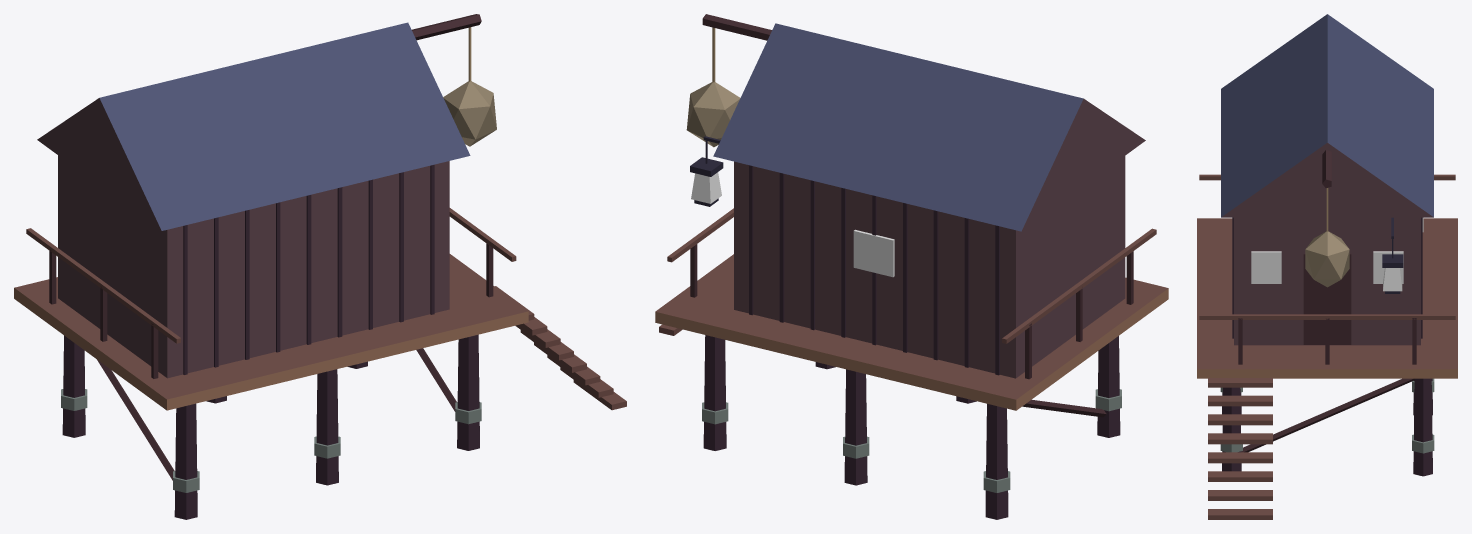
The model's file is Fair_StiltHouse.fbx.
3 views of the same model, side by side, from view 1: azimuth 30°, elevation 25°; view 2: azimuth 150°, elevation 25°; view 3: azimuth 270°, elevation 25° (orthographic). The views are drawn at different scales.
Parts seen in each view (by area): view 1: Fair_StiltHouse; view 2: Fair_StiltHouse; view 3: Fair_StiltHouse.
Boxes of the visible parts, box(x1,y1,x2,y2) form: Fair_StiltHouse: box(14, 14, 626, 519); Fair_StiltHouse: box(655, 14, 1168, 519); Fair_StiltHouse: box(1197, 14, 1457, 519).
Size of what is drawn, in the model's own units: 10.57 by 8.3 by 6.
Materials: 2 (1 with a texture image).
